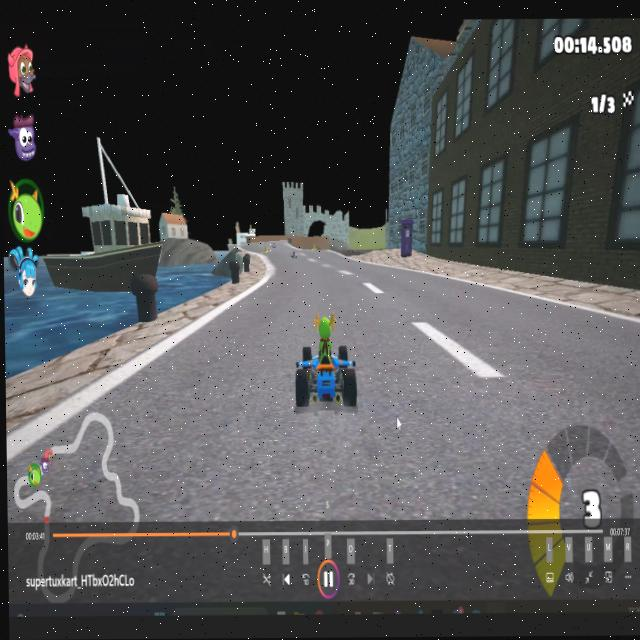enemy_kart: (285, 247, 301, 261)
obstacle: (261, 238, 271, 256)
player_kart: (287, 314, 362, 409)
